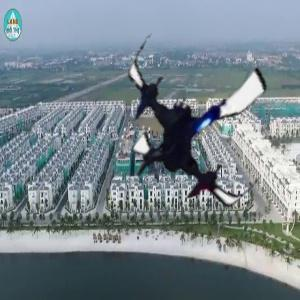drone: (103, 25, 292, 214)
